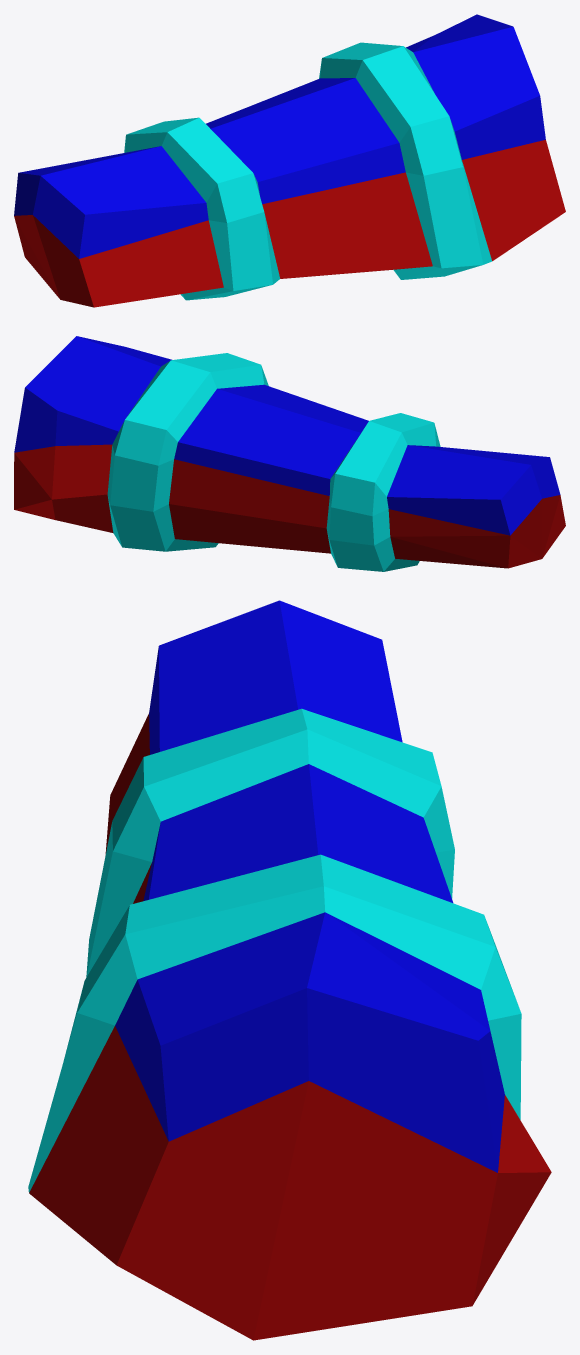
File: Chr_ArmLowerRight_Male_Static_16.fbx
3 views of the same model, one above another, from view 1: azimuth 30°, elevation 25°; view 2: azimuth 150°, elevation 25°; view 3: azimuth 270°, elevation 25° (orthographic). The views are drawn at different scales.
Visible parts, largest first — view 1: Chr_ArmLowerRight_Male_16; view 2: Chr_ArmLowerRight_Male_16; view 3: Chr_ArmLowerRight_Male_16.
Boxes of the visible parts, left/top/right/bottom form: Chr_ArmLowerRight_Male_16: left=14, top=14, right=565, bottom=307; Chr_ArmLowerRight_Male_16: left=14, top=336, right=565, bottom=571; Chr_ArmLowerRight_Male_16: left=28, top=600, right=551, bottom=1340.
Bounding box in the file's own units: 28.96 × 11.77 × 13.73.
